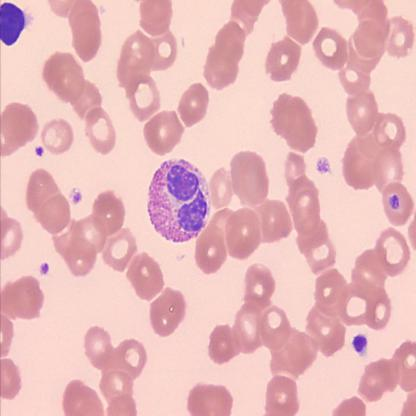Eosinophil: (143, 156, 209, 244)
